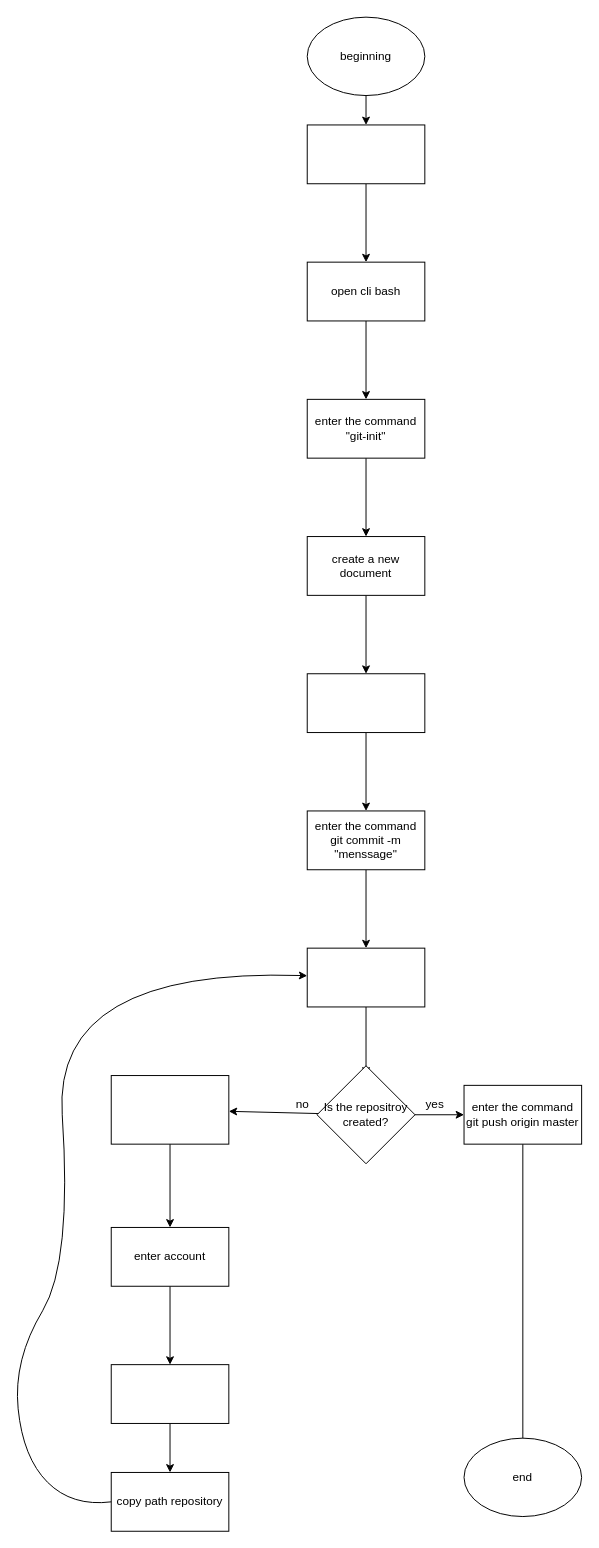
The diagram is 599 pixels wide and 1548 high, and some of its shapes have lost their labels. The box of each missing label's shape, as (x1, y1, x2, y2) in pixels:
Create folio: (306, 124, 425, 184)
create new repository: (110, 1364, 229, 1423)
enter the command "git add .": (306, 673, 425, 733)
enter the command git add remote origin "url": (306, 947, 425, 1007)
go to the github website: (110, 1075, 229, 1144)
